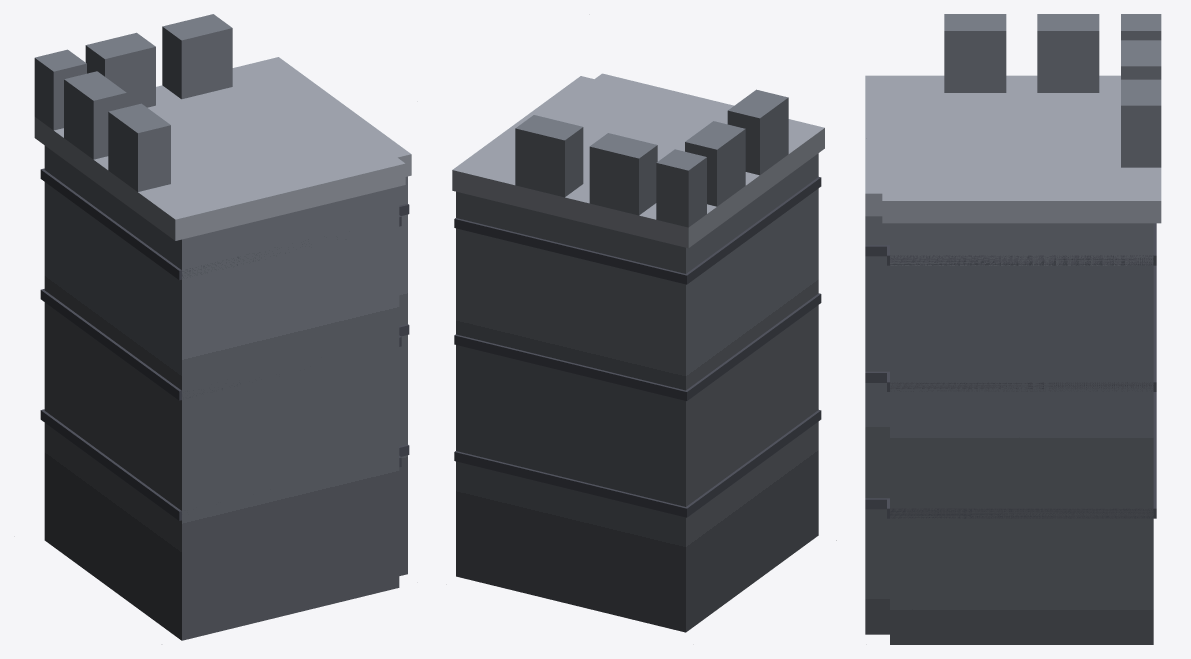
The model's file is perimeter_wall_metal_corner.glb.
3 views of the same model, side by side, from view 1: azimuth 30°, elevation 25°; view 2: azimuth 150°, elevation 25°; view 3: azimuth 270°, elevation 25° (orthographic). The views are drawn at different scales.
Bounding box in the file's own units: 2.01 × 3.6 × 2.01.
Materials: 1 (1 with a texture image).
